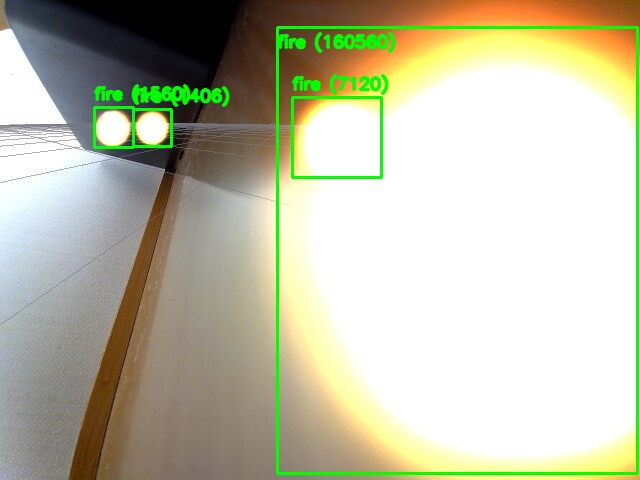fire: (277, 27, 637, 473), (292, 97, 381, 177), (94, 107, 133, 147), (133, 109, 171, 146)
